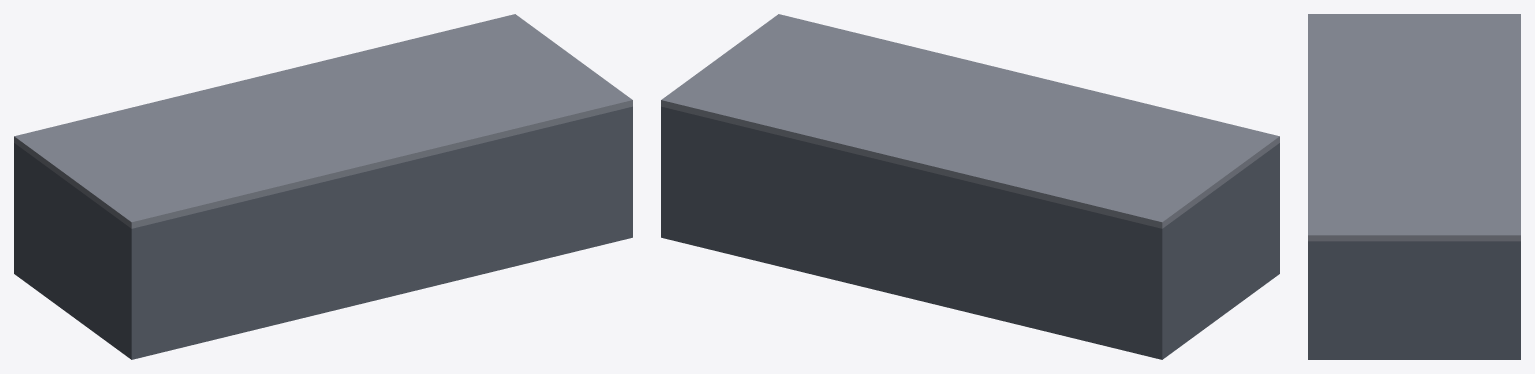
Rendered from gpu.glb.
3 renders of one model, left to right at view 1: azimuth 30°, elevation 25°; view 2: azimuth 150°, elevation 25°; view 3: azimuth 270°, elevation 25°, orthographic. The views are drawn at different scales.
Visible parts, largest first — view 1: GpuShroud, GpuBackplate; view 2: GpuShroud, GpuBackplate; view 3: GpuBackplate, GpuShroud.
Part boxes in pixels (left/top/right/bottom): GpuShroud: left=14, top=106, right=632, bottom=359; GpuBackplate: left=14, top=14, right=632, bottom=228; GpuShroud: left=661, top=106, right=1279, bottom=359; GpuBackplate: left=661, top=14, right=1279, bottom=228; GpuBackplate: left=1308, top=14, right=1520, bottom=241; GpuShroud: left=1308, top=241, right=1520, bottom=359.
Bounding box in the file's own units: 3.2 × 0.84 × 1.3.
